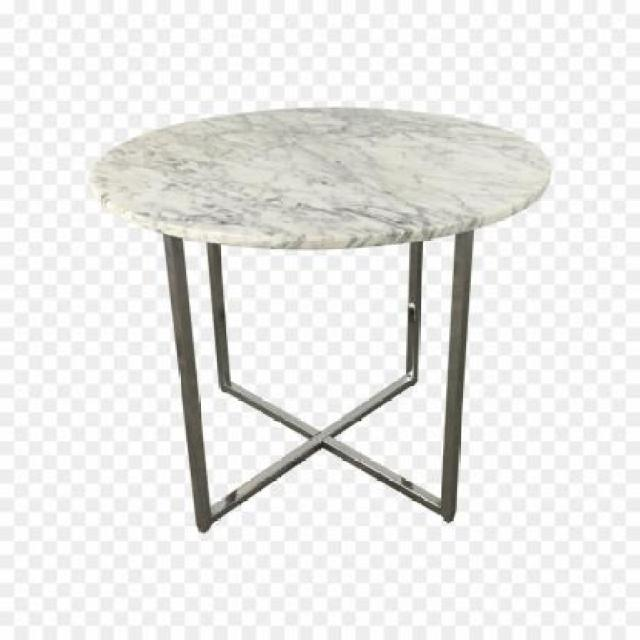table: (88, 105, 554, 532)
